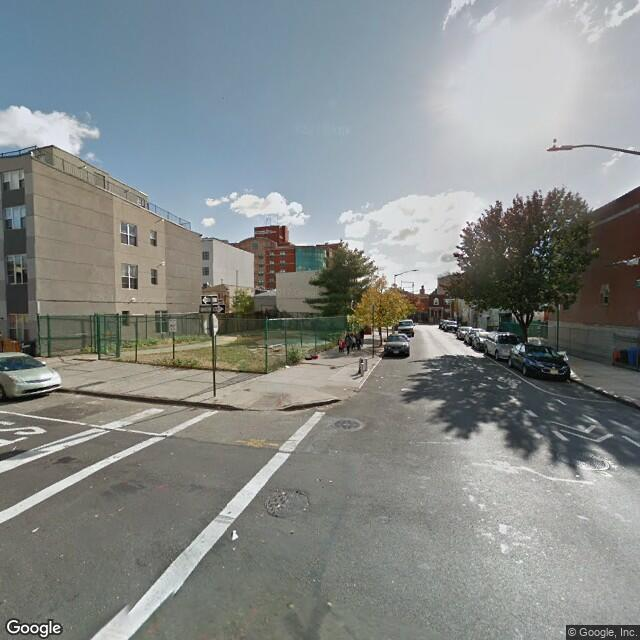litter: (607, 339, 637, 372), (300, 352, 329, 367), (283, 364, 304, 372)
